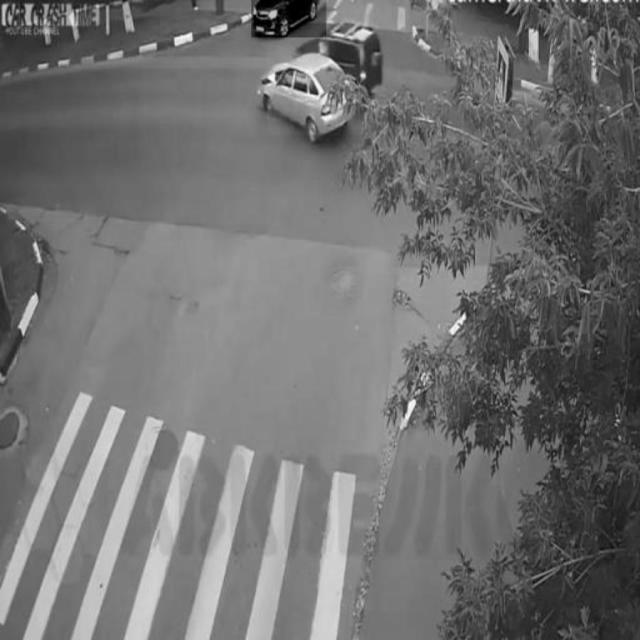accident: (268, 23, 378, 135)
vehicle: (251, 0, 325, 37)
